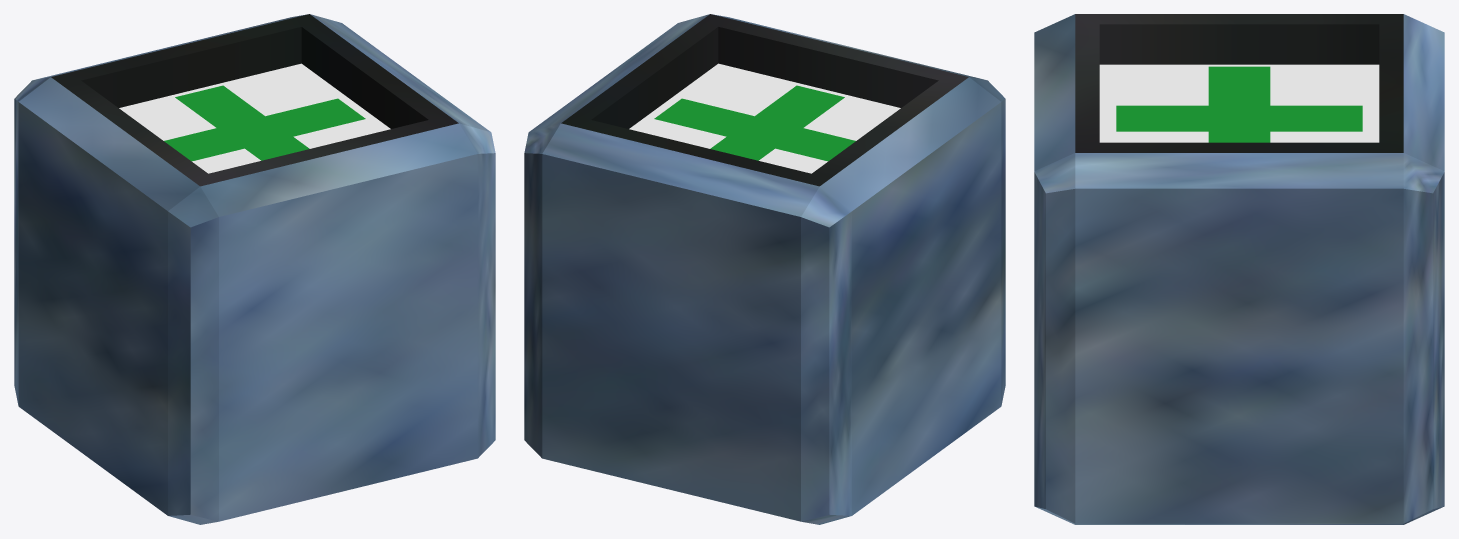
Rendered from healthbox.obj.
3 views of the same model, side by side, from view 1: azimuth 30°, elevation 25°; view 2: azimuth 150°, elevation 25°; view 3: azimuth 270°, elevation 25° (orthographic). The views are drawn at different scales.
Parts seen in each view (by area): view 1: HealthBox_Cube.046; view 2: HealthBox_Cube.046; view 3: HealthBox_Cube.046.
Boxes of the visible parts, x1,y1,x2,y2 form: HealthBox_Cube.046: [14, 14, 495, 524]; HealthBox_Cube.046: [524, 14, 1005, 524]; HealthBox_Cube.046: [1034, 14, 1444, 524].
Bounding box in the file's own units: 6.4 × 6.4 × 6.4.
